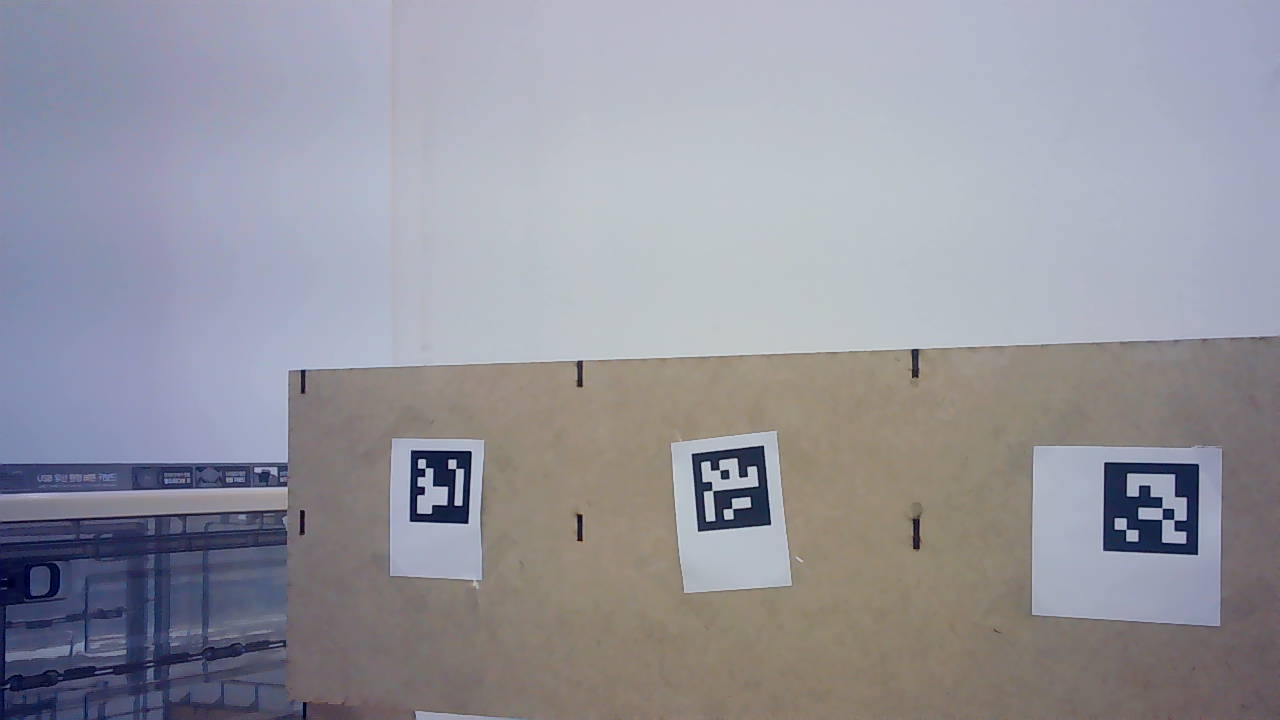aruco: (1029, 441, 1229, 635), (655, 428, 798, 601), (386, 437, 489, 586)
